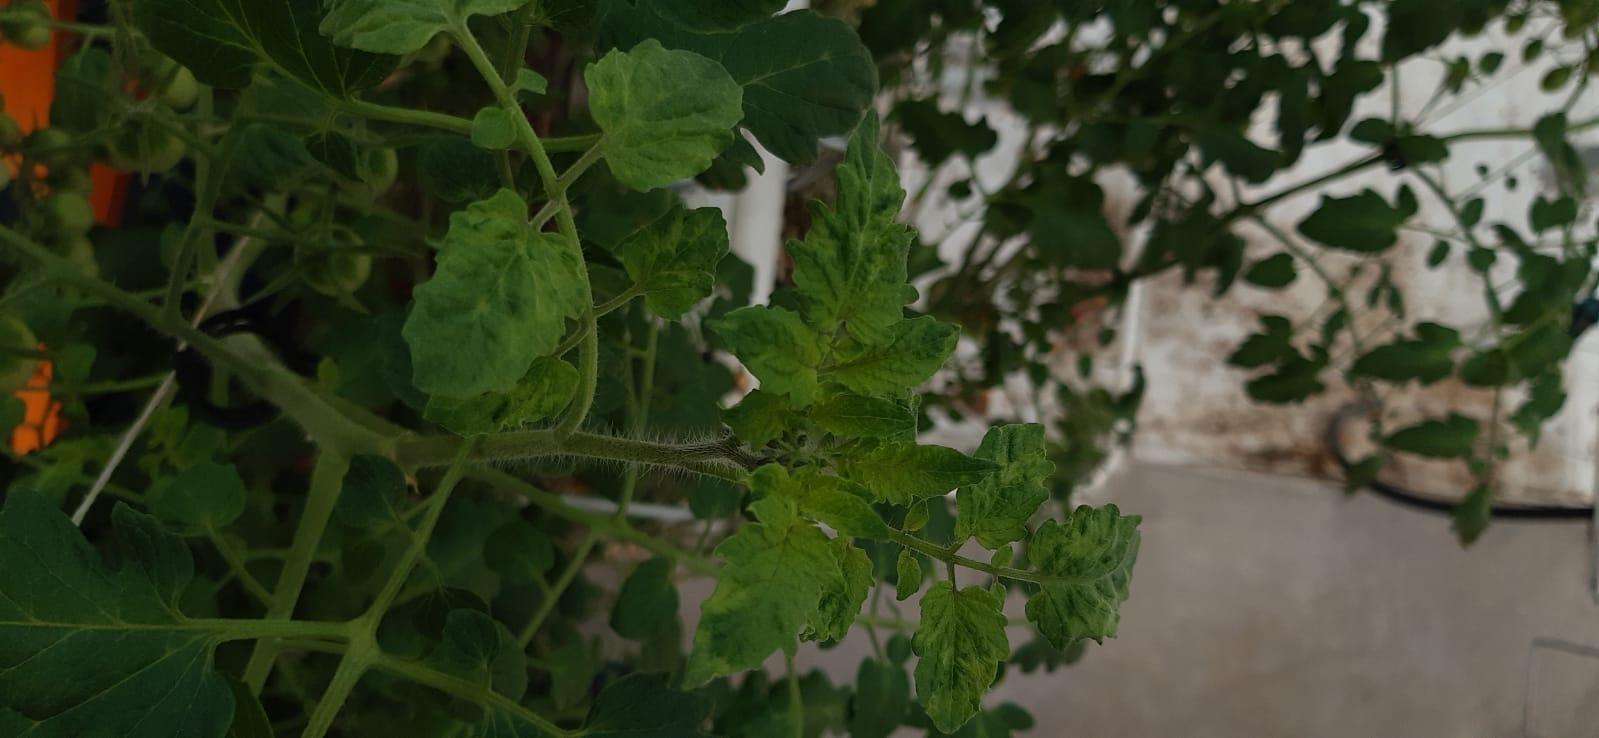Hoja: (686, 462, 885, 685), (401, 186, 588, 398), (788, 108, 914, 342), (584, 41, 743, 191)
